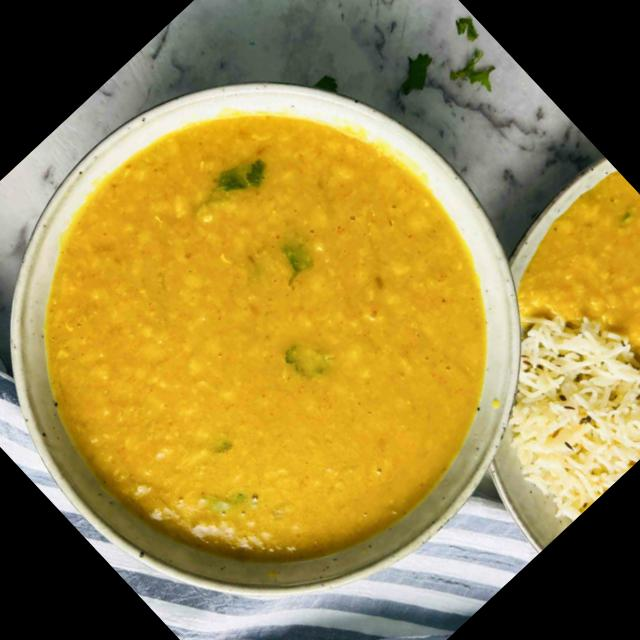dal: (0, 23, 602, 640), (510, 161, 640, 423)
rice: (459, 282, 640, 526)
